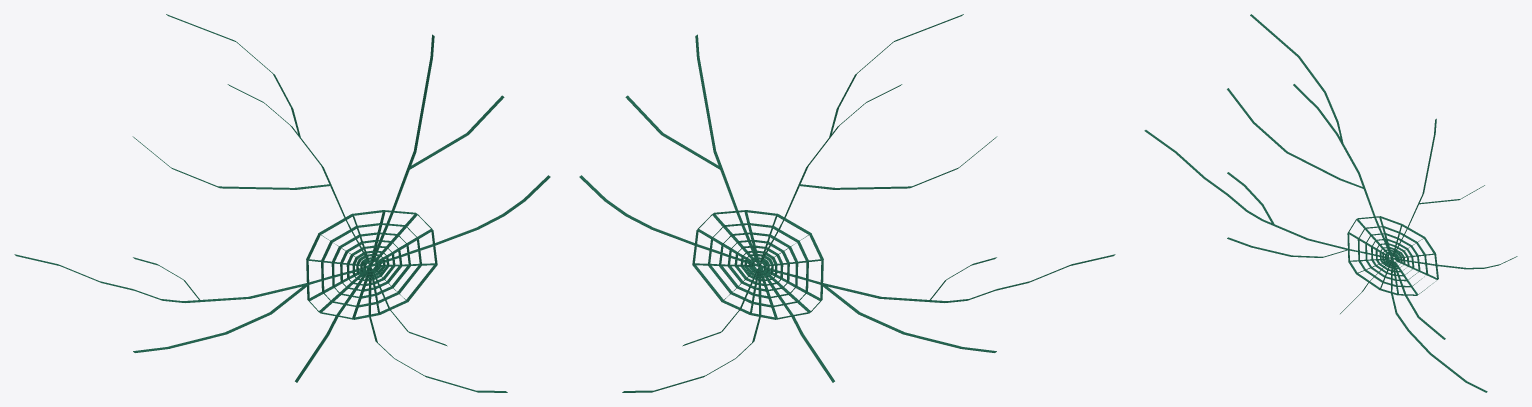
File: Grass2.glb
3 renders of one model, left to right at view 1: azimuth 30°, elevation 25°; view 2: azimuth 150°, elevation 25°; view 3: azimuth 330°, elevation 25°, orthographic. The views are drawn at different scales.
Parts seen in each view (by area): view 1: plane; view 2: plane; view 3: plane.
Boxes of the visible parts, x1=… form: plane: x1=14, y1=14, x2=550, y2=392; plane: x1=579, y1=14, x2=1115, y2=392; plane: x1=1144, y1=14, x2=1517, y2=392.
Size of the model in its own units: 3.57 by 2.94 by 0.0258.
